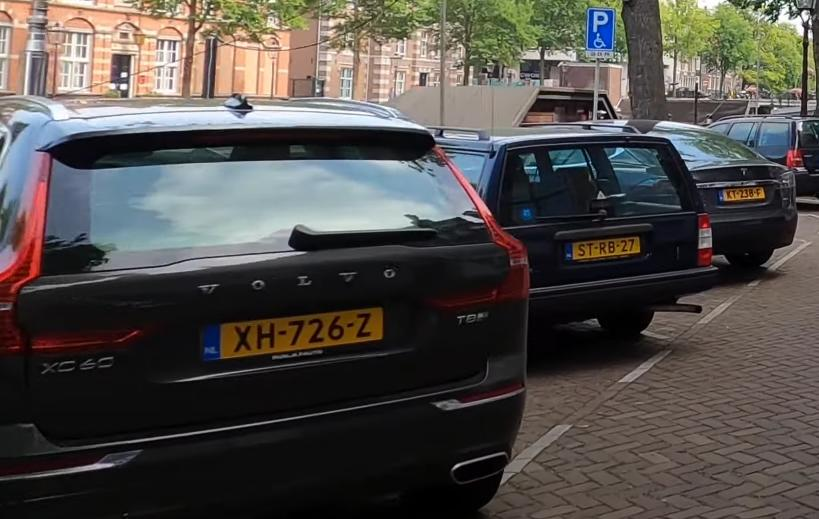license-plate: (197, 304, 385, 365), (563, 233, 645, 267), (717, 186, 767, 204)
